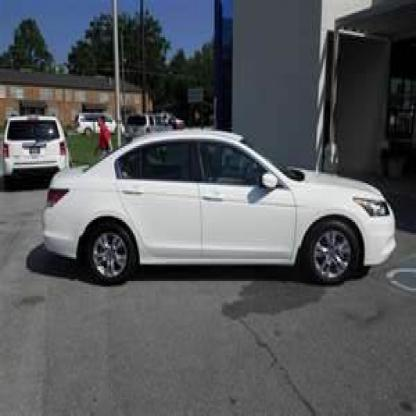Vehicle: (43, 128, 399, 290)
